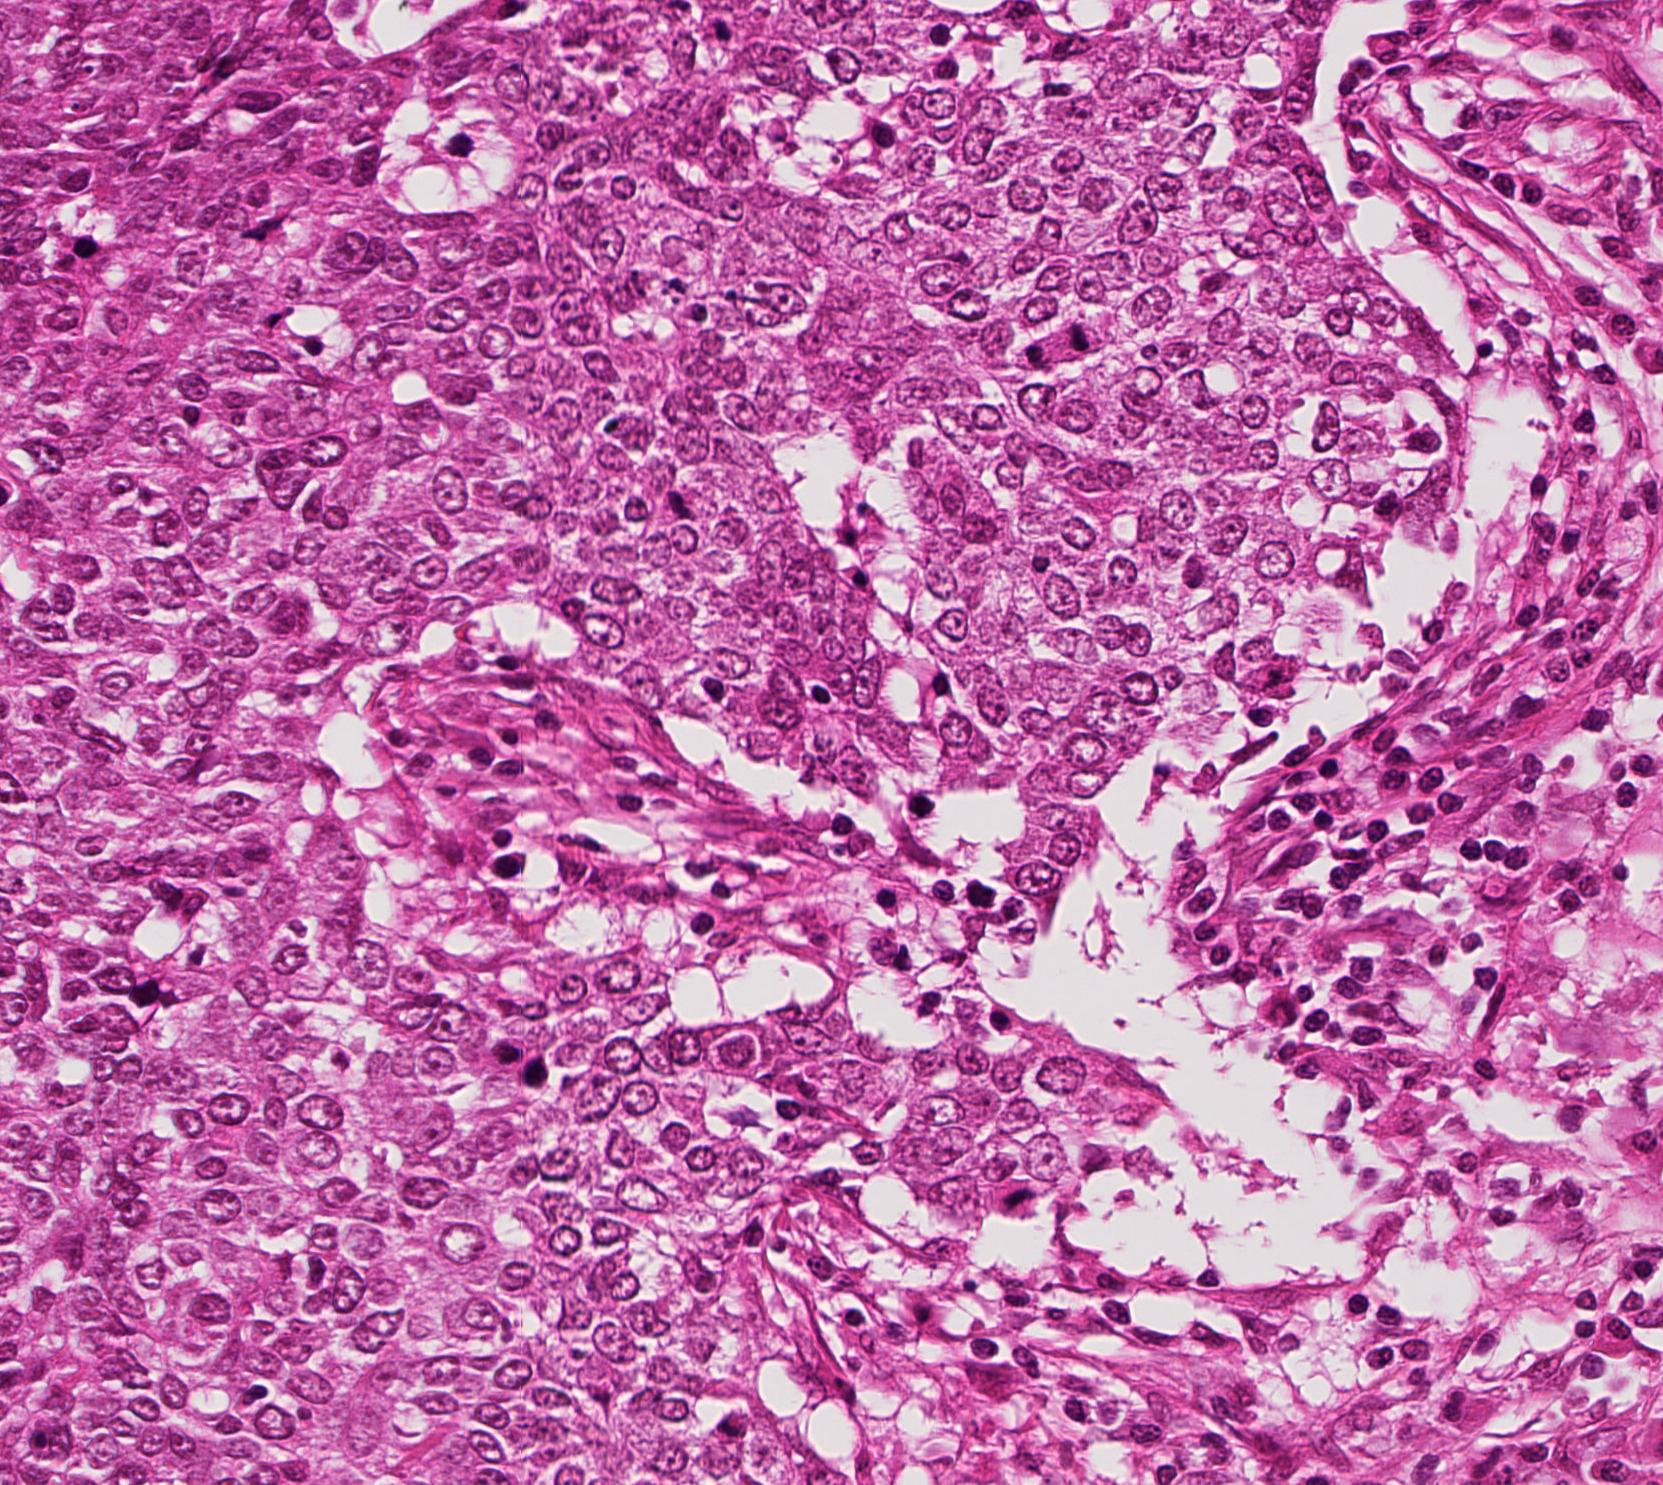mitosis: (1028, 315, 1088, 376)
